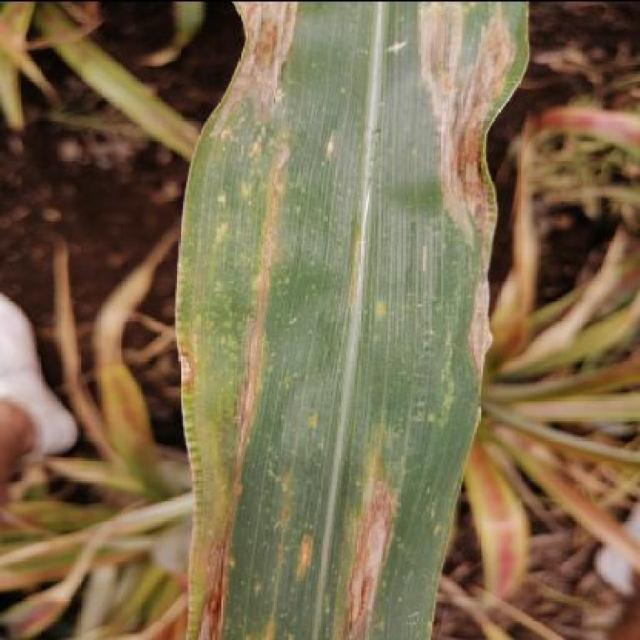Corn_Leaf_Blight: (171, 3, 535, 640)
